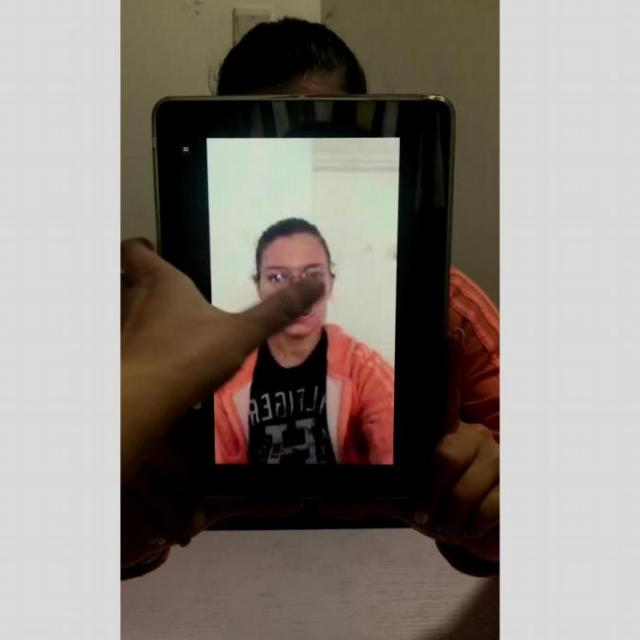device: (150, 93, 460, 507)
